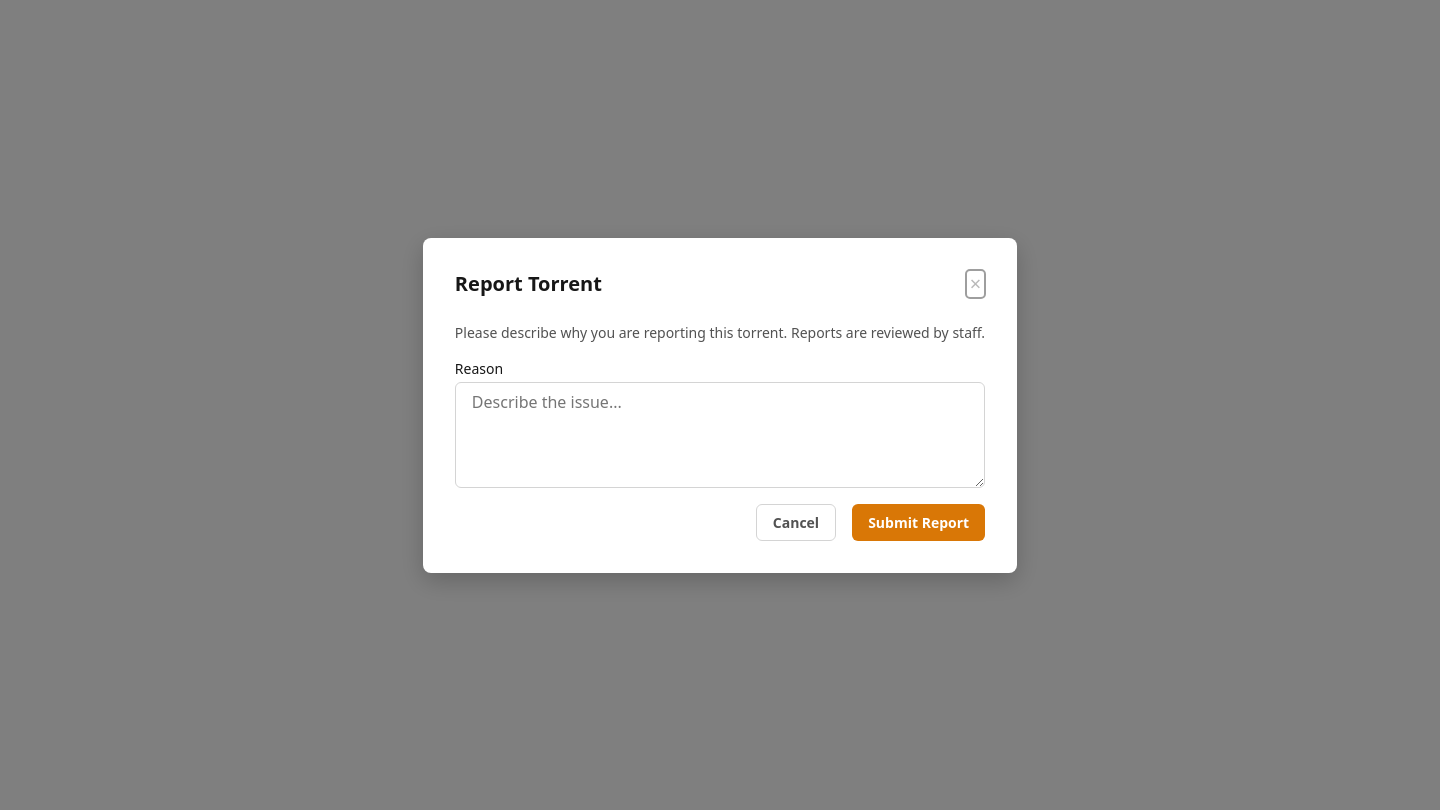
Scenario: ReportModal › shows validation error when submitting empty reason
Click the button "Submit Report".
click(919, 522)  # box top-left (852, 504), bottom-right (985, 540)
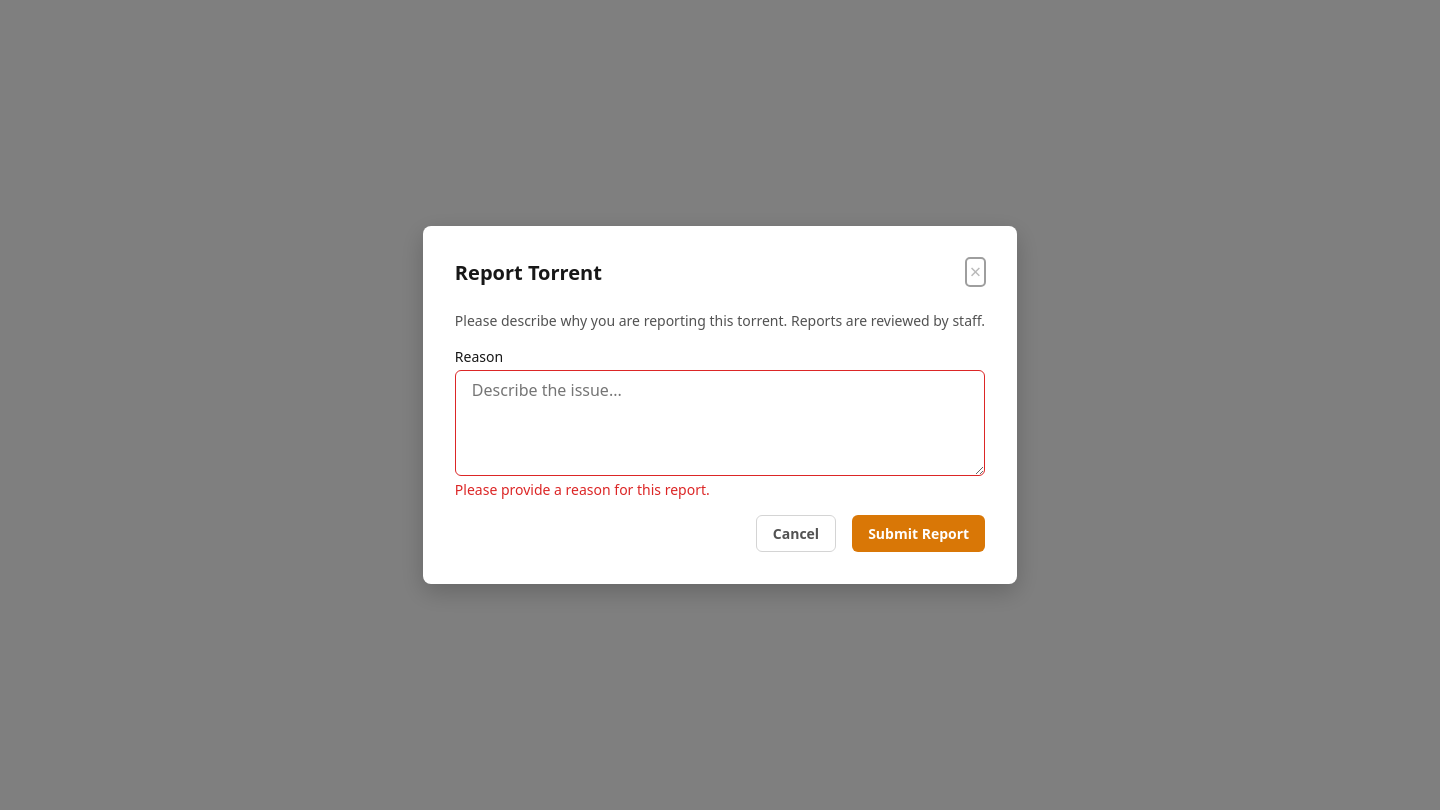
Now the text "Please provide a reason for this report." is shown, box top-left (455, 480), bottom-right (710, 499)
